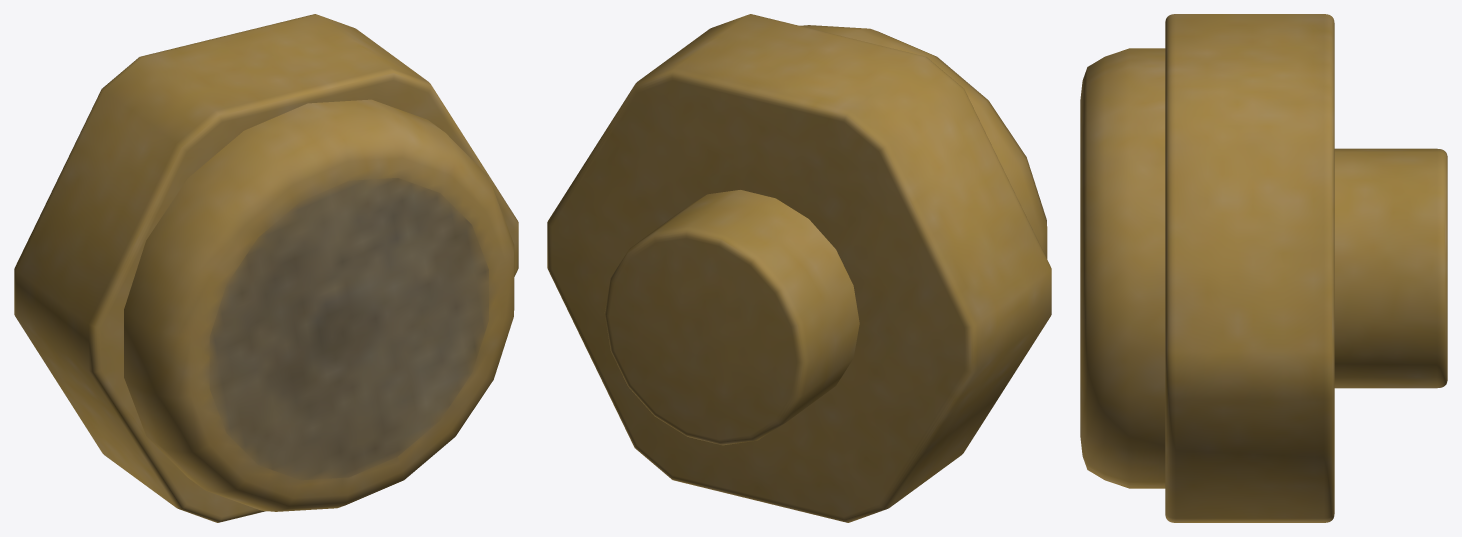
The model's file is 消声接头03.fbx.
The picture shows the model from 3 angles, left to right: view 1: azimuth 30°, elevation 25°; view 2: azimuth 150°, elevation 25°; view 3: azimuth 270°, elevation 25°; orthographic projection. The views are drawn at different scales.
Visible parts, largest first — view 1: 消声接头03; view 2: 消声接头03; view 3: 消声接头03.
Part boxes in pixels (x1,y1,x2,y2): 消声接头03: (14,14,518,522); 消声接头03: (547,14,1051,522); 消声接头03: (1080,14,1447,522).
Bounding box in the file's own units: 0.9227 × 0.8472 × 0.6696.
